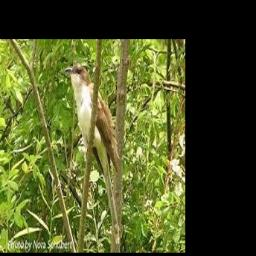Cuckoo: (64, 65, 120, 172)
